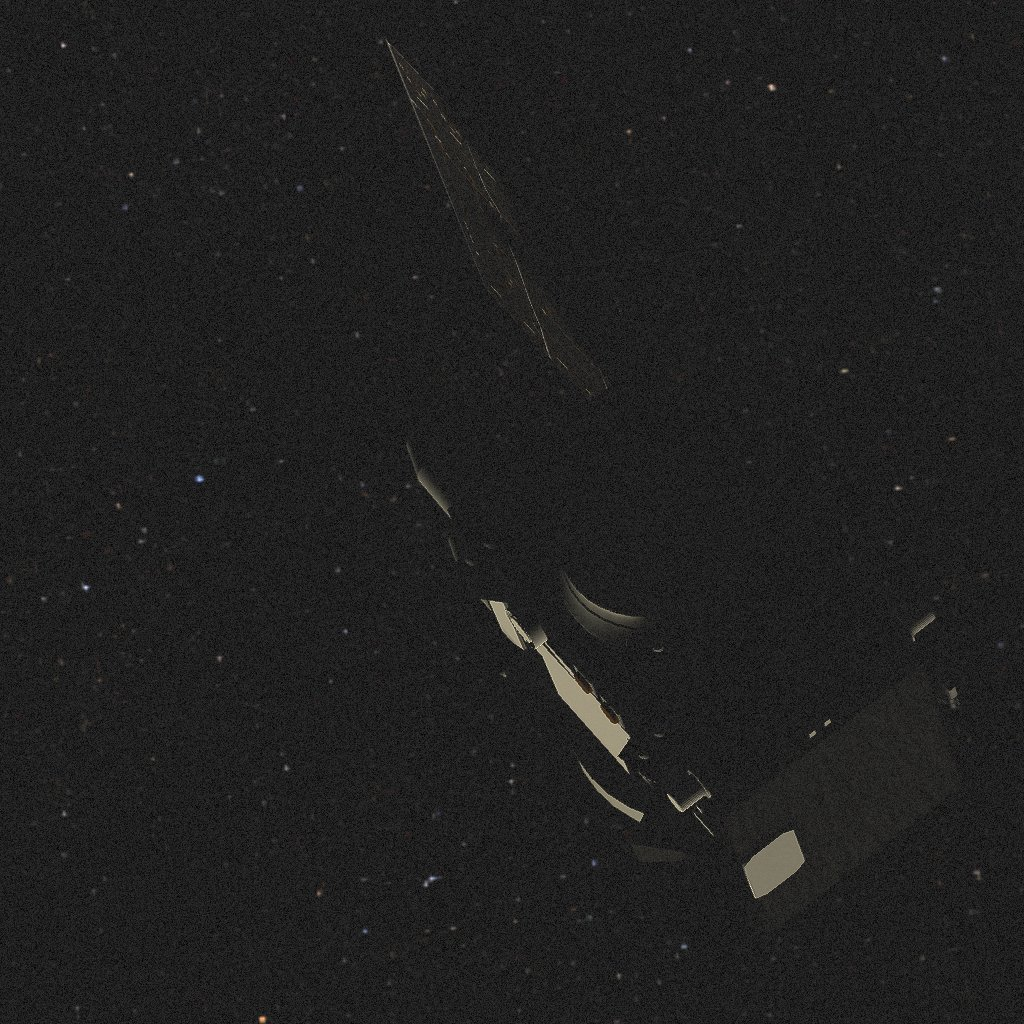proba_3_csc: (386, 36, 967, 947)
